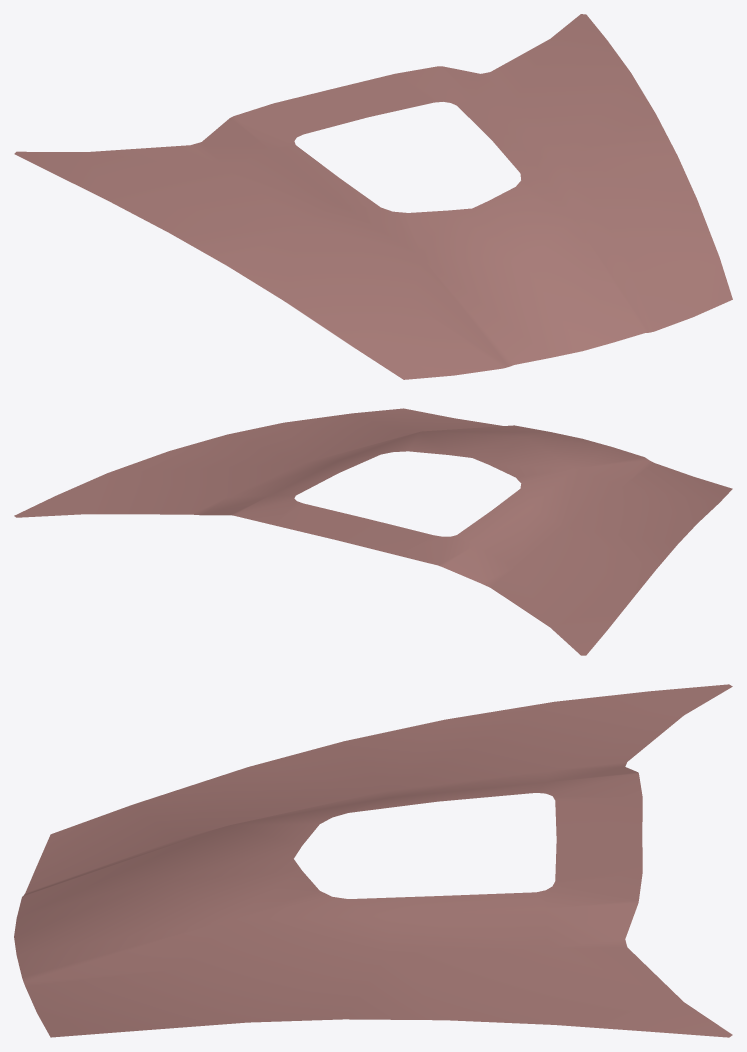
File: Zr1_Hood_02_Trim.fbx
3 views of the same model, one above another, from view 1: azimuth 30°, elevation 25°; view 2: azimuth 150°, elevation 25°; view 3: azimuth 270°, elevation 25° (orthographic). The views are drawn at different scales.
Parts seen in each view (by area): view 1: Zr1_Hood_02_Trim; view 2: Zr1_Hood_02_Trim; view 3: Zr1_Hood_02_Trim.
Part boxes in pixels (left/top/right/bottom): Zr1_Hood_02_Trim: left=14, top=14, right=732, bottom=379; Zr1_Hood_02_Trim: left=14, top=408, right=732, bottom=655; Zr1_Hood_02_Trim: left=14, top=684, right=732, bottom=1037.
Bounding box in the file's own units: 153 × 21.18 × 131.
